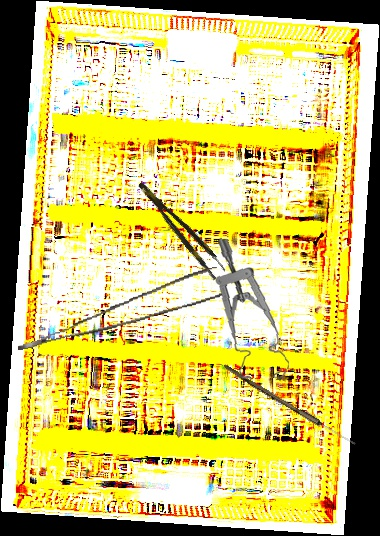Speculum: (206, 238, 300, 383)
Surgical Spoon: (221, 364, 358, 447)
Tissue Forceps: (10, 266, 225, 351), (136, 174, 228, 282)
